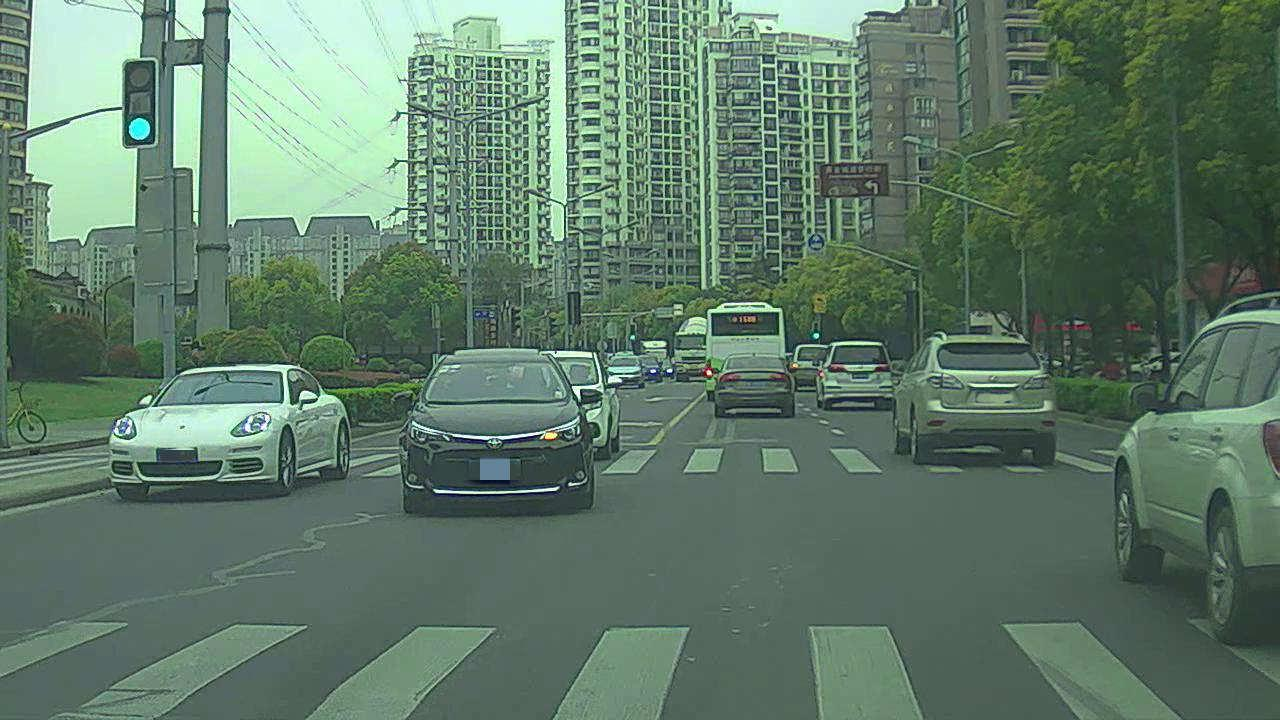traffic_light: (120, 56, 159, 147)
